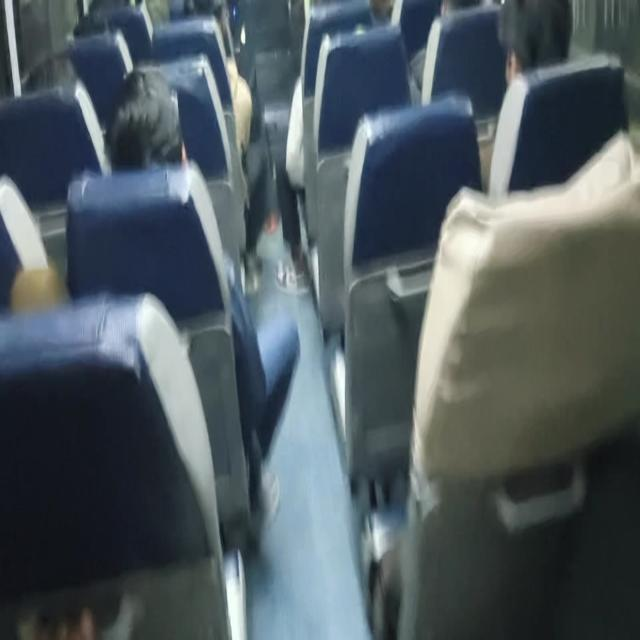person: (114, 87, 187, 172), (495, 0, 583, 68), (21, 57, 78, 115), (175, 0, 232, 41), (66, 5, 116, 47)
